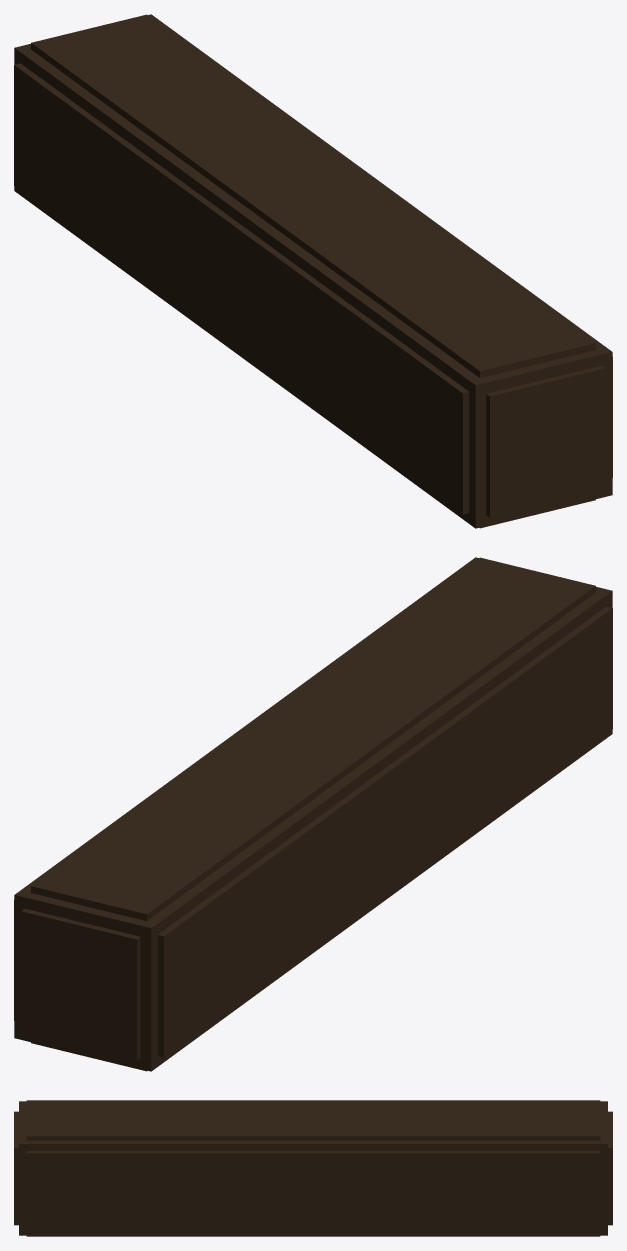
File: Pohon Gundul 4.fbx
3 renders of one model, top to bottom at view 1: azimuth 30°, elevation 25°; view 2: azimuth 150°, elevation 25°; view 3: azimuth 270°, elevation 25°, orthographic. The views are drawn at different scales.
Parts seen in each view (by area): view 1: Pohon Tebang 4; view 2: Pohon Tebang 4; view 3: Pohon Tebang 4.
Part boxes in pixels (bbox=[...]): Pohon Tebang 4: bbox=[14, 14, 612, 528]; Pohon Tebang 4: bbox=[14, 557, 612, 1071]; Pohon Tebang 4: bbox=[14, 1100, 612, 1236].
Bounding box in the file's own units: 56.03 × 56.03 × 303.
